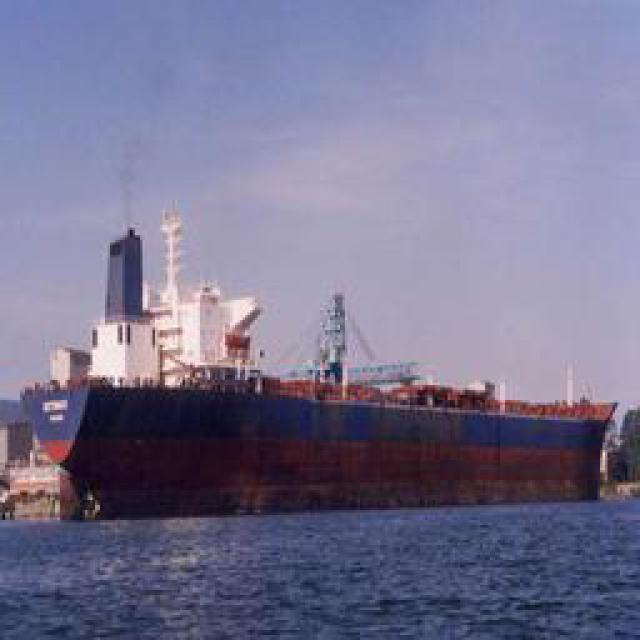Ship: (33, 336, 618, 516)
